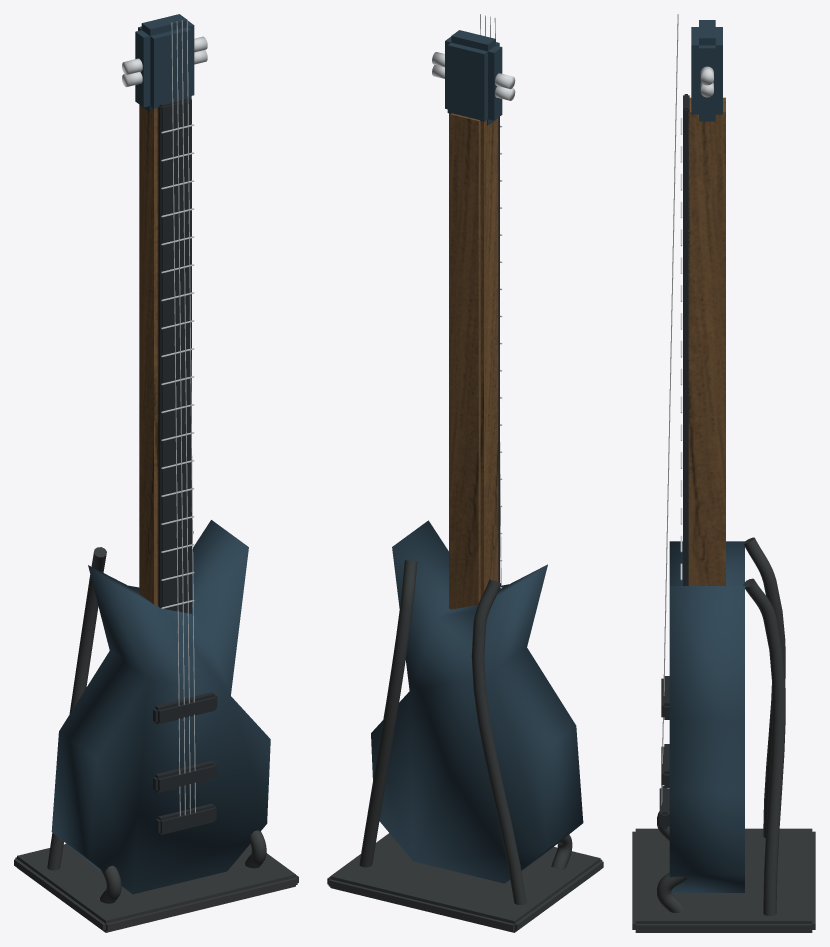
File: sku_v24_electric_bass.glb
3 views of the same model, side by side, from view 1: azimuth 30°, elevation 25°; view 2: azimuth 150°, elevation 25°; view 3: azimuth 270°, elevation 25° (orthographic). The views are drawn at different scales.
Visible parts, largest first — view 1: sku_v24_electric_bass_V24_indigo_wool, sku_v24_electric_bass_V24_satin_black, sku_v24_electric_bass_Anodised_graphite, sku_v24_electric_bass_CC0_Oak_veneer.001, sku_v24_electric_bass_V24_brushed_silver; view 2: sku_v24_electric_bass_V24_indigo_wool, sku_v24_electric_bass_CC0_Oak_veneer.001, sku_v24_electric_bass_Anodised_graphite, sku_v24_electric_bass_V24_brushed_silver, sku_v24_electric_bass_V24_satin_black; view 3: sku_v24_electric_bass_V24_indigo_wool, sku_v24_electric_bass_Anodised_graphite, sku_v24_electric_bass_CC0_Oak_veneer.001, sku_v24_electric_bass_V24_satin_black, sku_v24_electric_bass_V24_brushed_silver.
Boxes of the visible parts, x1,y1,x2,y2 form: sku_v24_electric_bass_V24_indigo_wool: (51,14,270,894); sku_v24_electric_bass_V24_satin_black: (153,97,217,834); sku_v24_electric_bass_Anodised_graphite: (14,531,298,932); sku_v24_electric_bass_CC0_Oak_veneer.001: (139,104,158,605); sku_v24_electric_bass_V24_brushed_silver: (122,19,207,816); sku_v24_electric_bass_V24_indigo_wool: (371,30,583,883); sku_v24_electric_bass_CC0_Oak_veneer.001: (449,113,498,609); sku_v24_electric_bass_Anodised_graphite: (327,560,603,932); sku_v24_electric_bass_V24_brushed_silver: (432,14,515,588); sku_v24_electric_bass_V24_satin_black: (498,117,499,590); sku_v24_electric_bass_V24_indigo_wool: (669,20,744,892); sku_v24_electric_bass_Anodised_graphite: (632,537,815,932); sku_v24_electric_bass_CC0_Oak_veneer.001: (688,97,725,585); sku_v24_electric_bass_V24_satin_black: (659,94,689,828); sku_v24_electric_bass_V24_brushed_silver: (661,14,713,805).
Size of the model in its own units: 0.27 by 1.15 by 0.22.
Materials: 5 (1 with a texture image).
